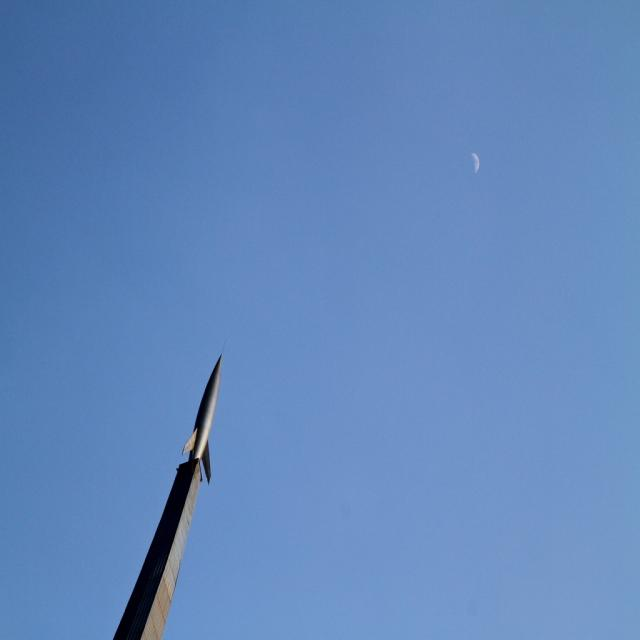rocket: (187, 349, 232, 482)
